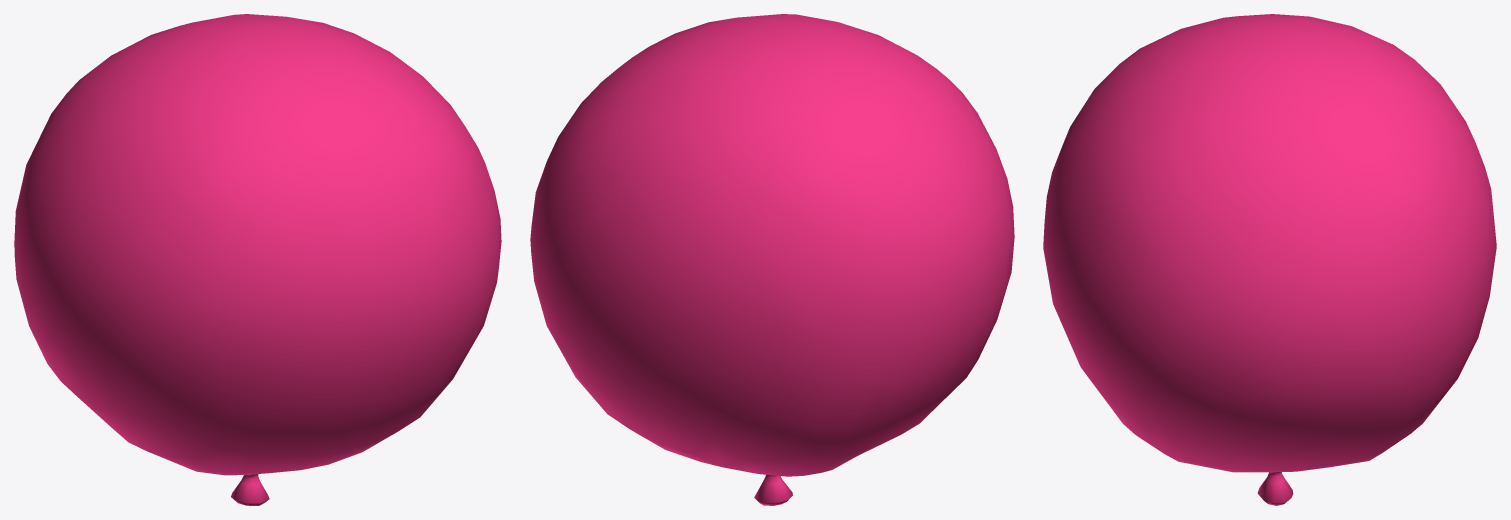
File: Balloon.fbx
The picture shows the model from 3 angles, left to right: view 1: azimuth 30°, elevation 25°; view 2: azimuth 150°, elevation 25°; view 3: azimuth 270°, elevation 25°; orthographic projection.
Visible parts, largest first — view 1: Baloon; view 2: Baloon; view 3: Baloon.
Part boxes in pixels (left/top/right/bottom): Baloon: left=14, top=14, right=501, bottom=505; Baloon: left=530, top=14, right=1014, bottom=505; Baloon: left=1043, top=14, right=1496, bottom=505.
Size of the model in its own units: 21.41 by 22.36 by 19.98.
